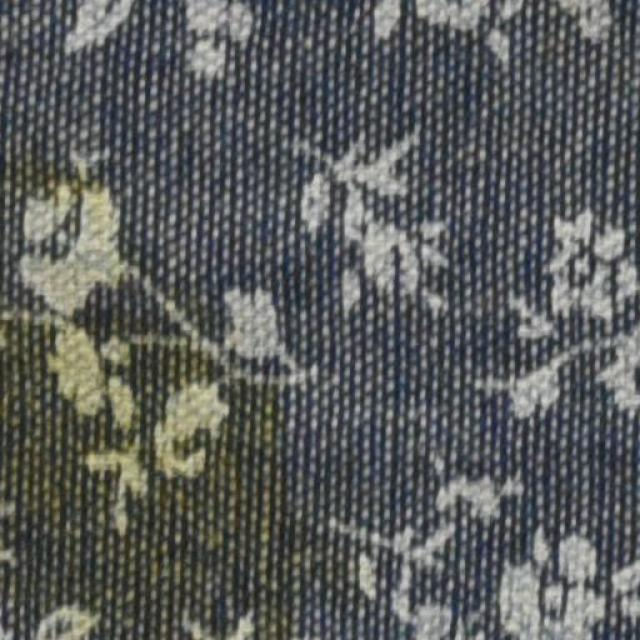Stain: (0, 119, 330, 639)
